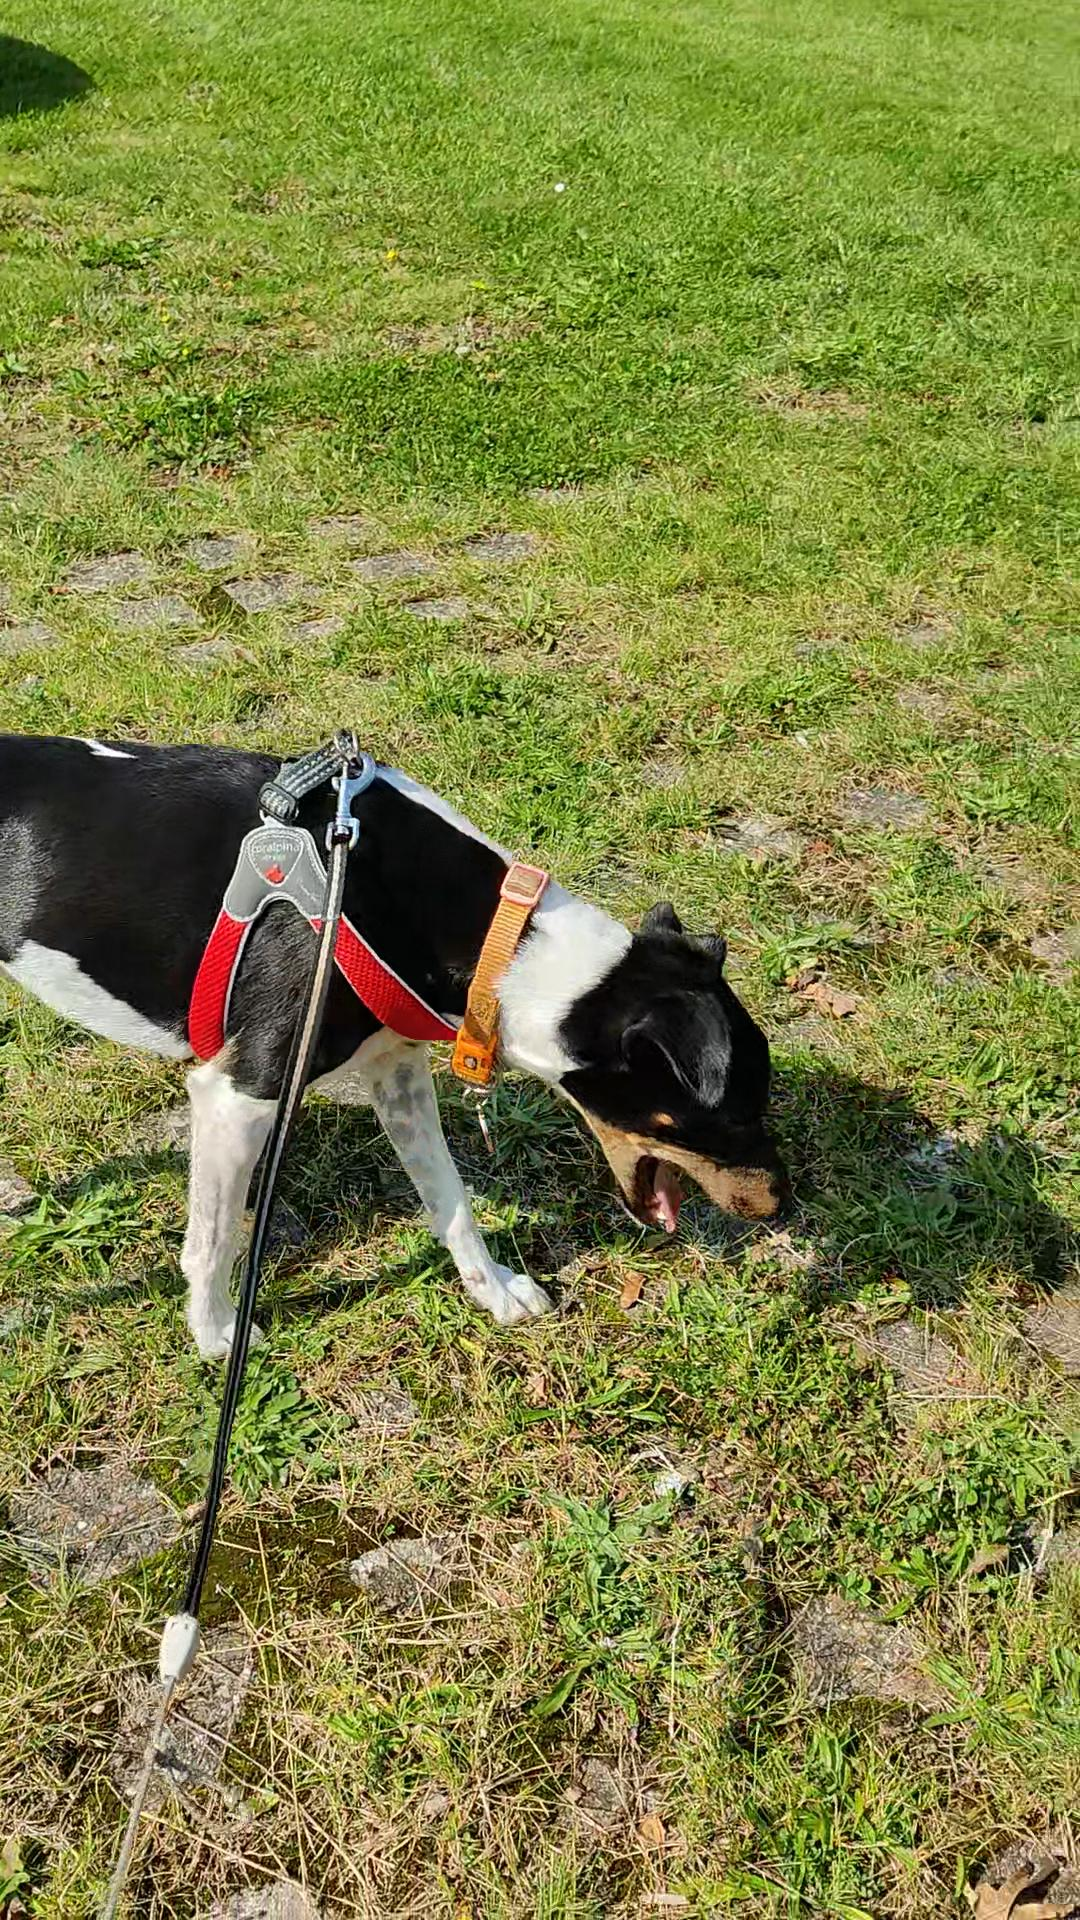Dog: (0, 704, 815, 1382)
